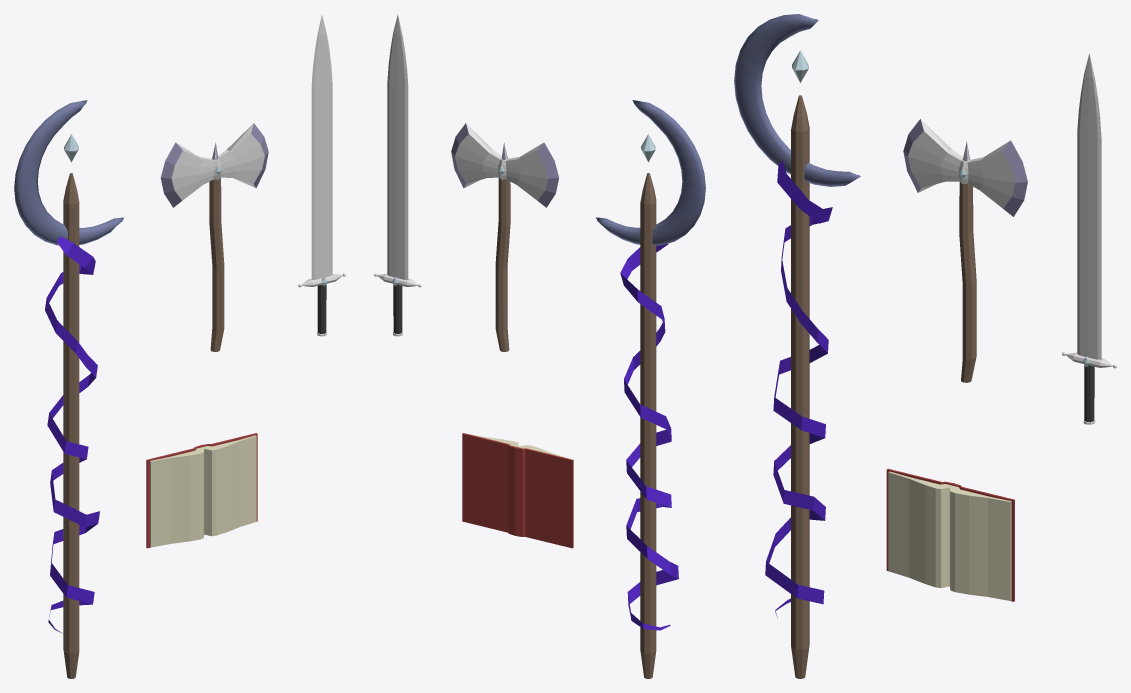
The model's file is Okidogs Weapons.fbx.
The picture shows the model from 3 angles, left to right: view 1: azimuth 30°, elevation 25°; view 2: azimuth 150°, elevation 25°; view 3: azimuth 330°, elevation 25°; orthographic projection. The views are drawn at different scales.
Visible parts, largest first — view 1: Cube, Cube.001, Cube.003, Cube.006, Plane, Circle; view 2: Cube, Cube.001, Cube.003, Cube.006, Plane, Circle; view 3: Cube, Cube.001, Cube.003, Cube.006, Plane, Circle.
Boxes of the visible parts, box(x1,y1,x2,y2) form: Cube: box(146, 433, 257, 548); Cube.001: box(63, 173, 79, 678); Cube.003: box(160, 123, 268, 351); Cube.006: box(298, 15, 345, 336); Plane: box(45, 236, 99, 633); Circle: box(14, 100, 123, 245); Cube: box(462, 433, 573, 548); Cube.001: box(640, 173, 656, 678); Cube.003: box(451, 123, 558, 351); Cube.006: box(374, 14, 421, 336); Plane: box(620, 243, 678, 630); Circle: box(596, 100, 705, 245); Cube: box(886, 468, 1014, 601); Cube.001: box(791, 95, 809, 678); Cube.003: box(903, 119, 1027, 382); Cube.006: box(1062, 53, 1116, 424); Plane: box(765, 161, 832, 617); Circle: box(734, 14, 860, 186).
Bounding box in the file's own units: 102 × 177 × 14.52.
